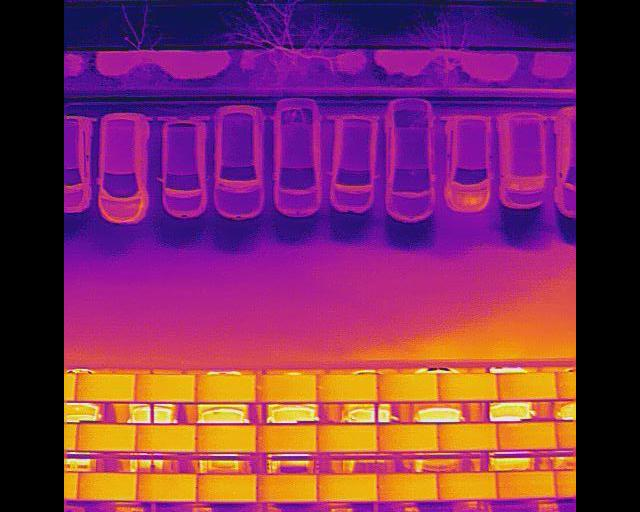No-Anomaly: (437, 470, 496, 500), (376, 472, 436, 500), (197, 472, 257, 500), (74, 373, 136, 400), (439, 422, 498, 450), (378, 424, 439, 451), (316, 473, 377, 500), (255, 374, 316, 401), (136, 473, 197, 500), (317, 424, 376, 451), (496, 470, 555, 497), (197, 374, 256, 401), (197, 424, 256, 451), (136, 425, 195, 452), (498, 421, 557, 448), (377, 374, 438, 400), (136, 374, 197, 400), (258, 473, 316, 500), (438, 373, 498, 399), (76, 424, 136, 450), (257, 425, 316, 451), (498, 373, 557, 399), (76, 473, 135, 499), (318, 375, 379, 400)
